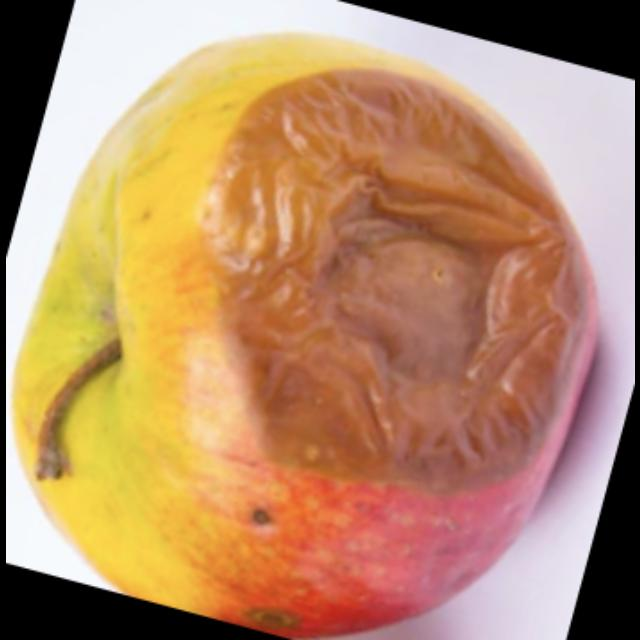Apel Tidak Segar: (14, 25, 612, 637)
